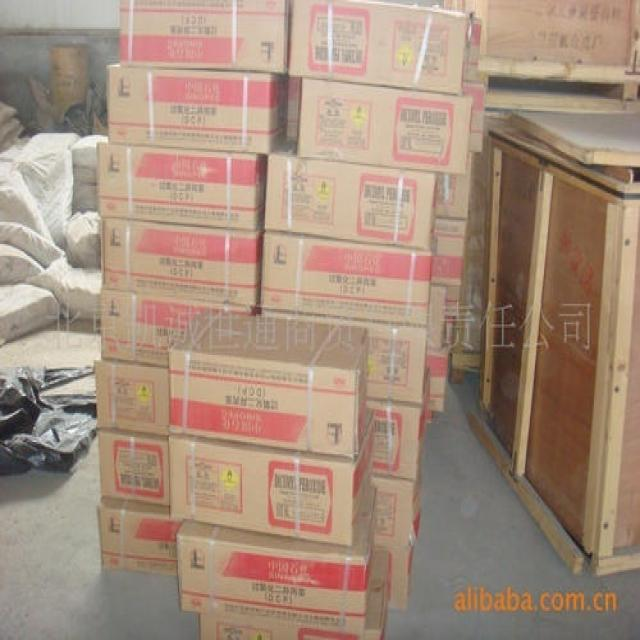box: (169, 308, 369, 457), (176, 488, 376, 637), (169, 401, 373, 545), (266, 136, 436, 249), (299, 73, 473, 175), (199, 549, 390, 638), (259, 229, 431, 327), (259, 306, 426, 404), (289, 1, 469, 91), (107, 65, 290, 153), (99, 214, 265, 306), (97, 146, 269, 230), (103, 289, 259, 371), (120, 0, 290, 72), (97, 499, 188, 580), (95, 357, 169, 439), (97, 427, 170, 507), (367, 401, 422, 482), (367, 477, 417, 549), (433, 150, 475, 219), (429, 219, 468, 286), (425, 284, 458, 354), (422, 354, 451, 411), (385, 549, 411, 611), (289, 73, 304, 139)
